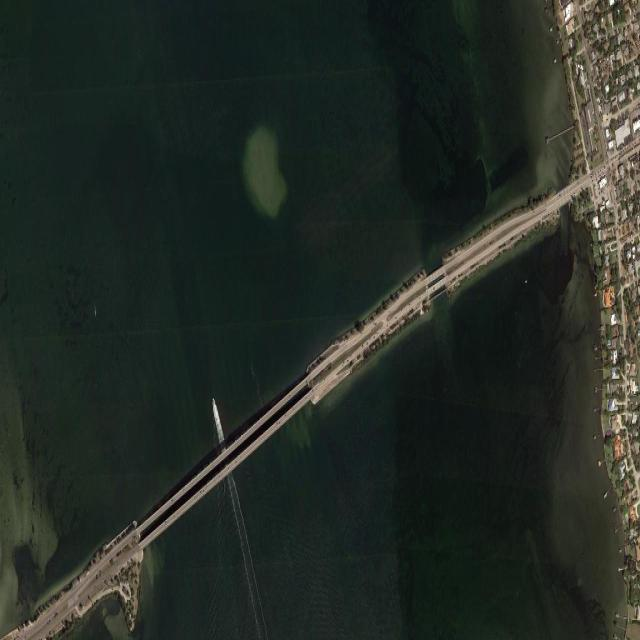ship: (212, 398, 222, 435)
